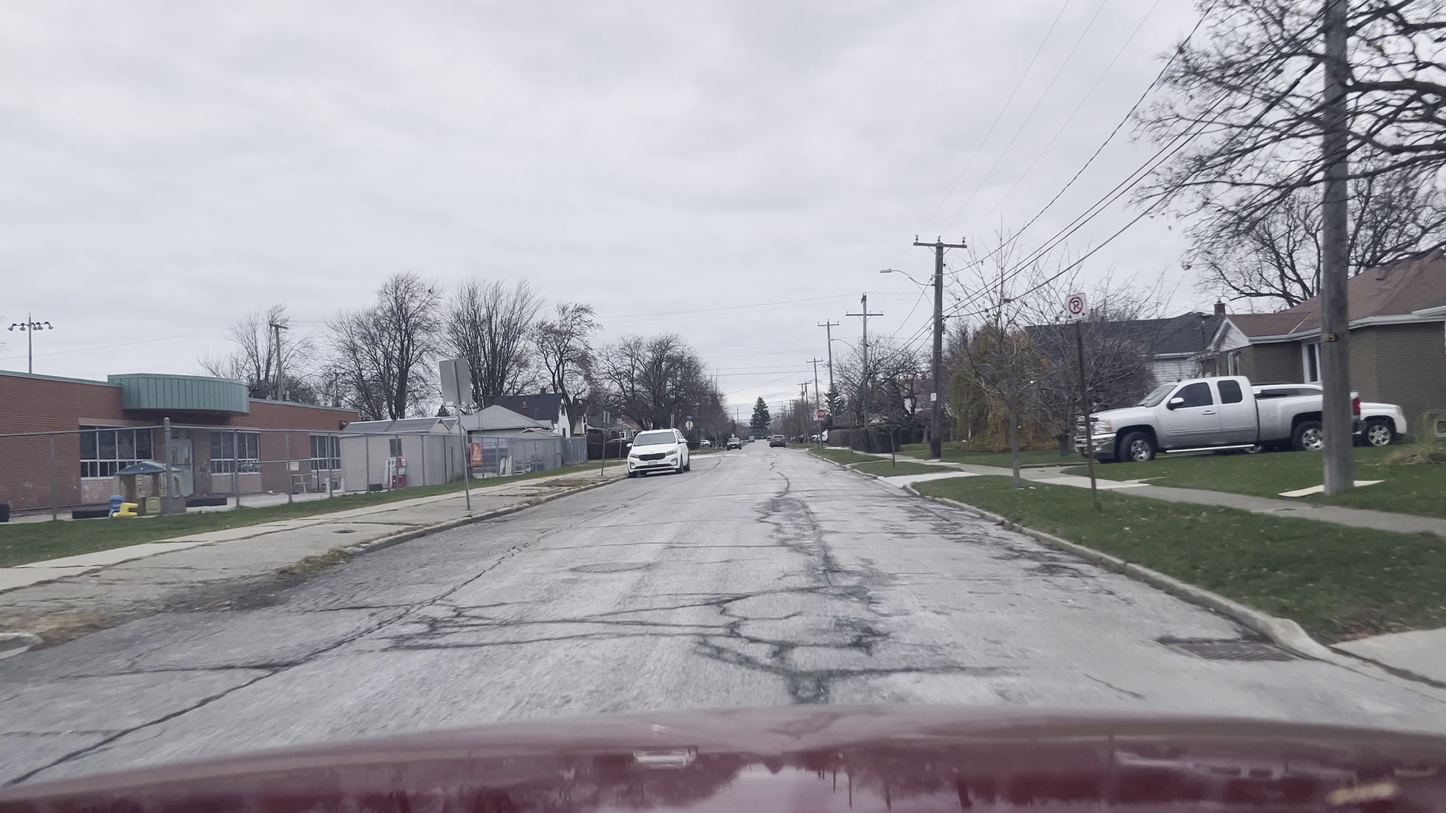cracks: (143, 652, 301, 729), (764, 486, 861, 594), (717, 660, 899, 705), (921, 508, 1029, 561), (695, 583, 772, 654), (416, 578, 476, 657), (27, 731, 130, 764), (1030, 548, 1091, 596)
